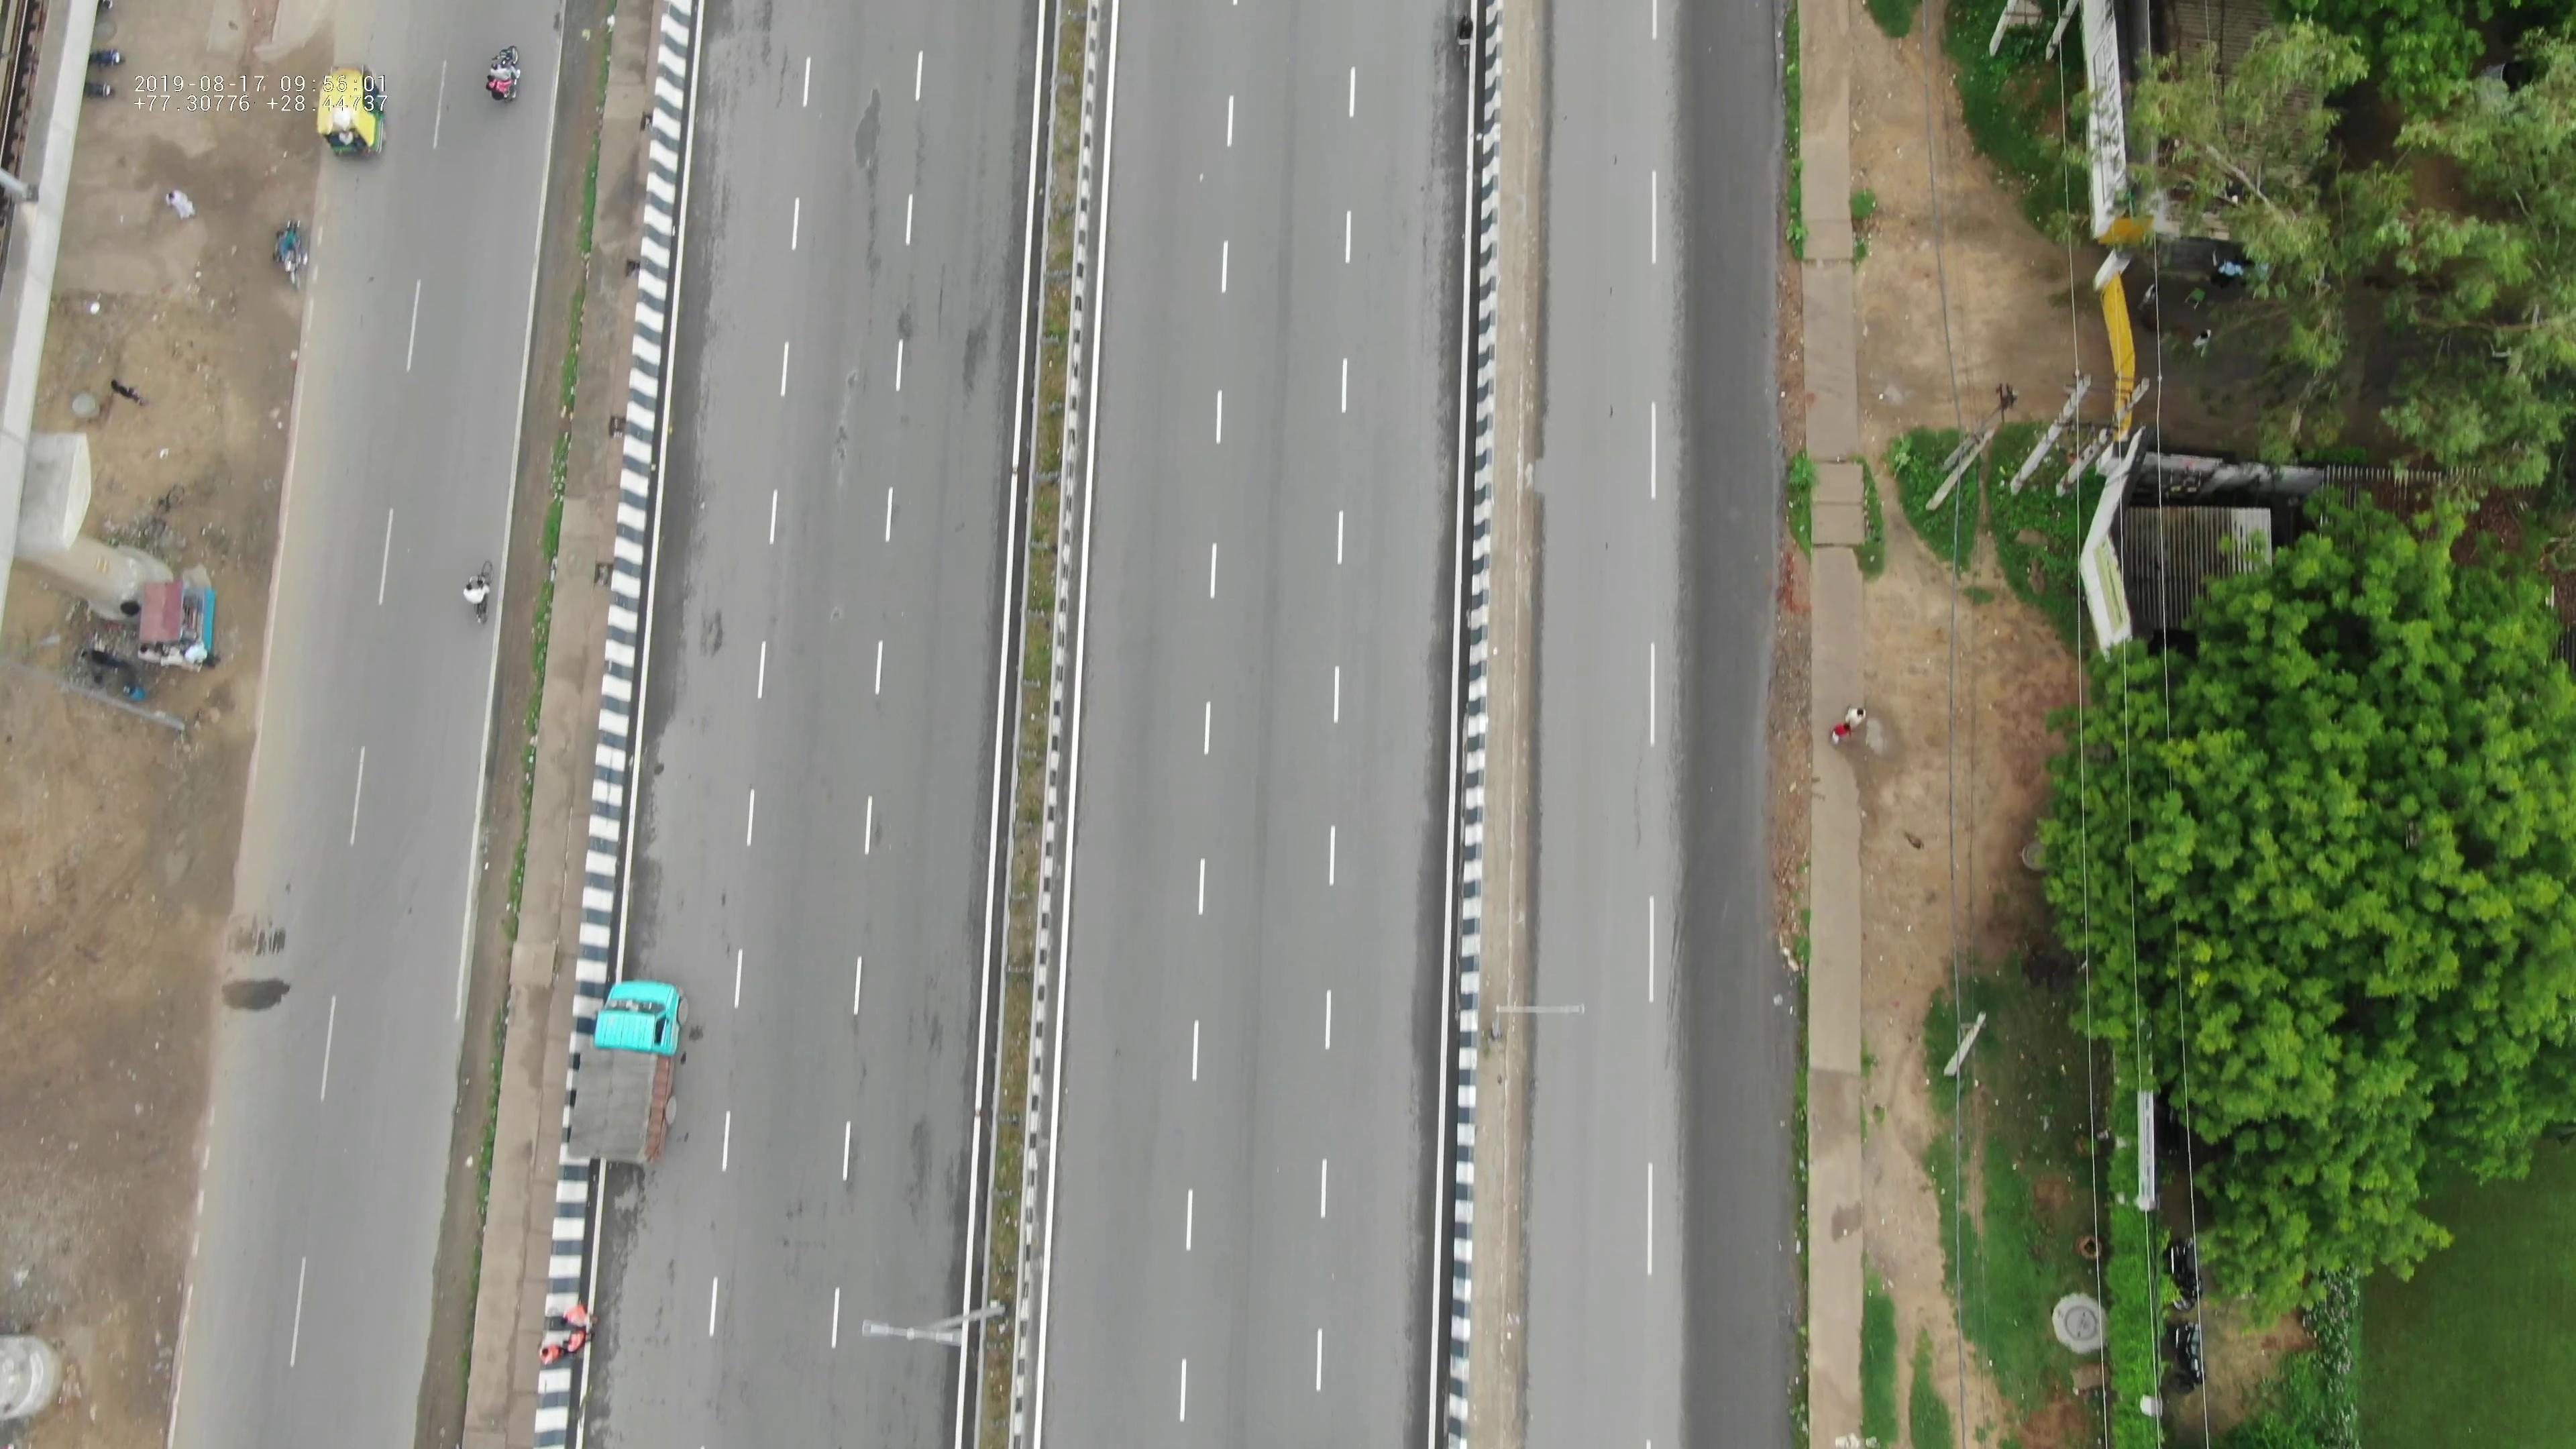Muddy_road: (1743, 548, 1824, 959)
